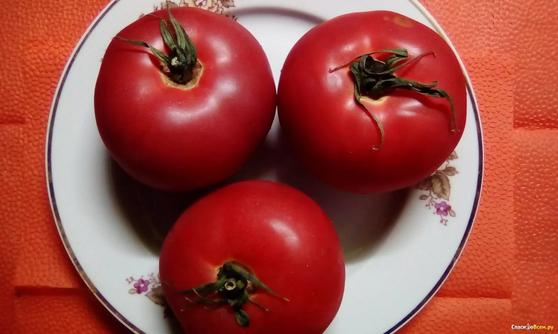tomato: (273, 9, 470, 189), (154, 181, 354, 332), (101, 7, 278, 176)
